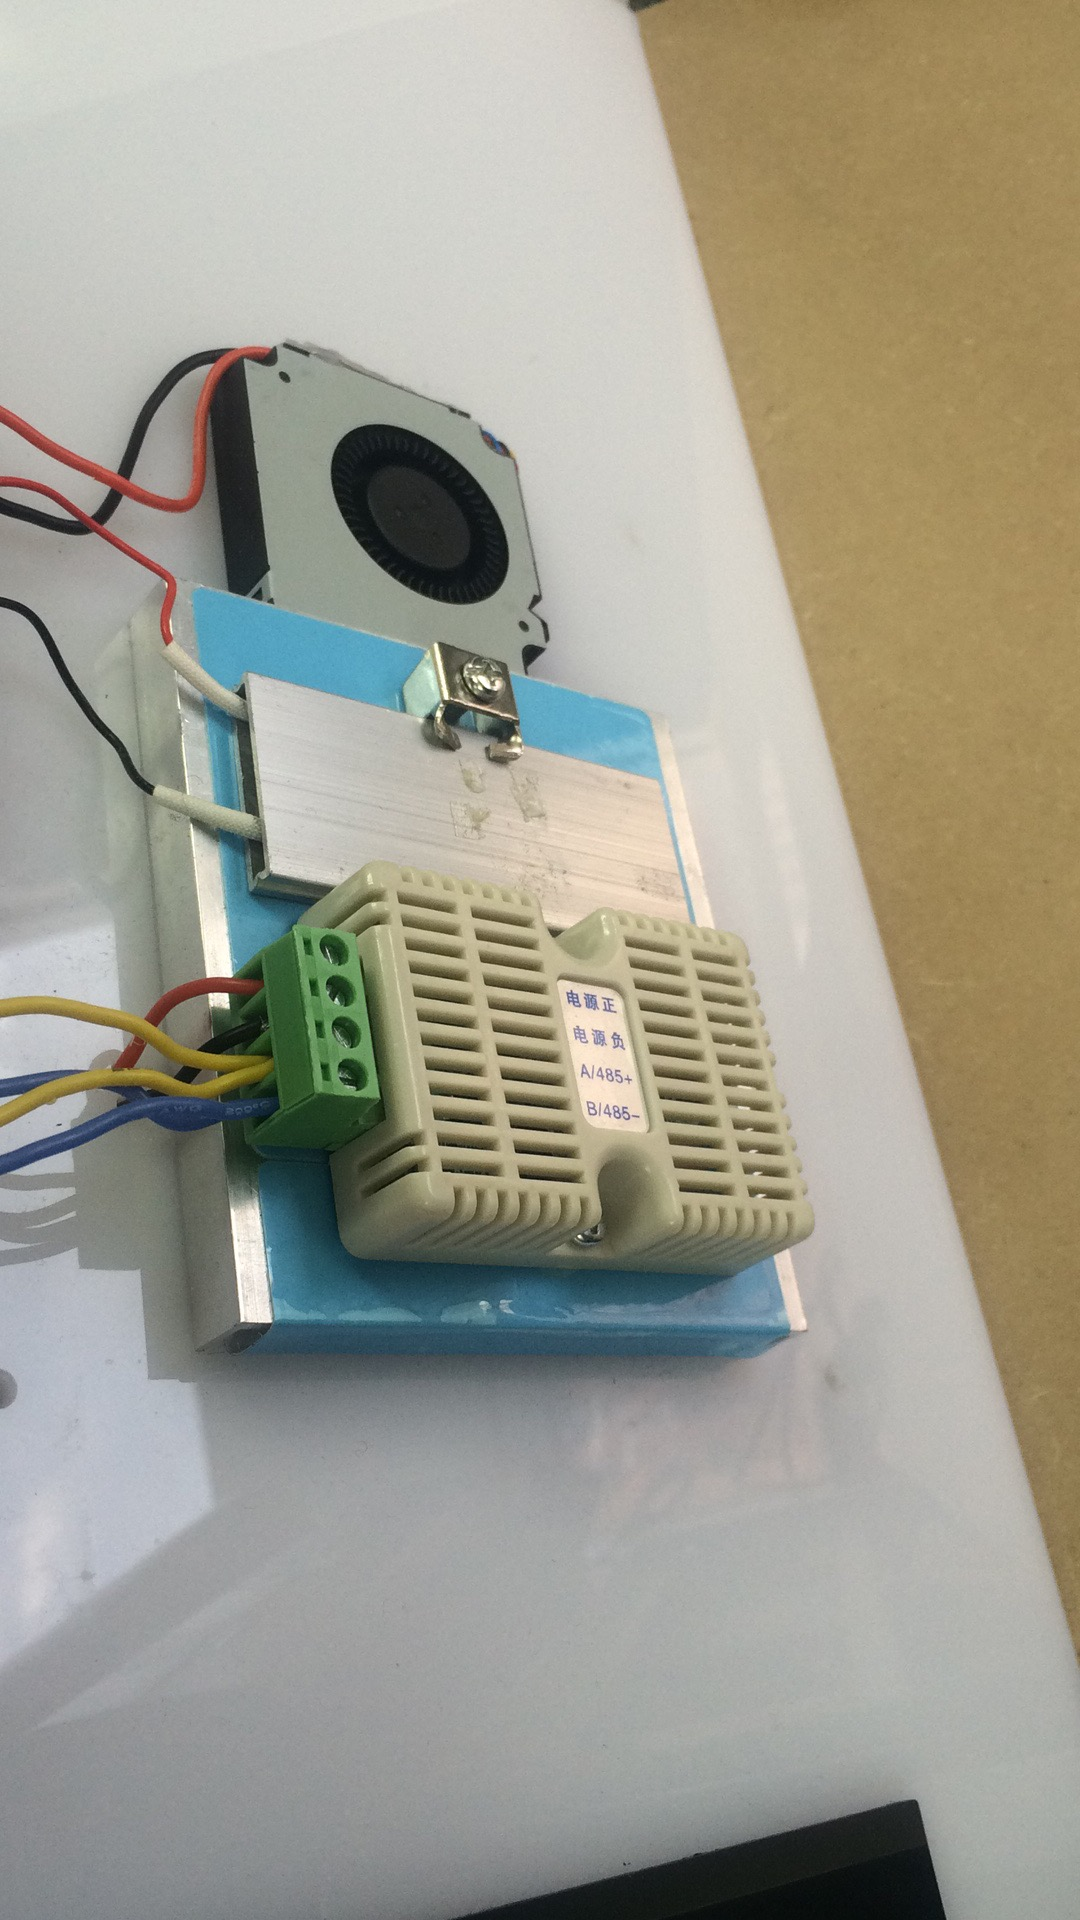fan: (211, 316, 567, 676)
heater: (233, 673, 695, 924)
temperature: (309, 882, 849, 1273)
